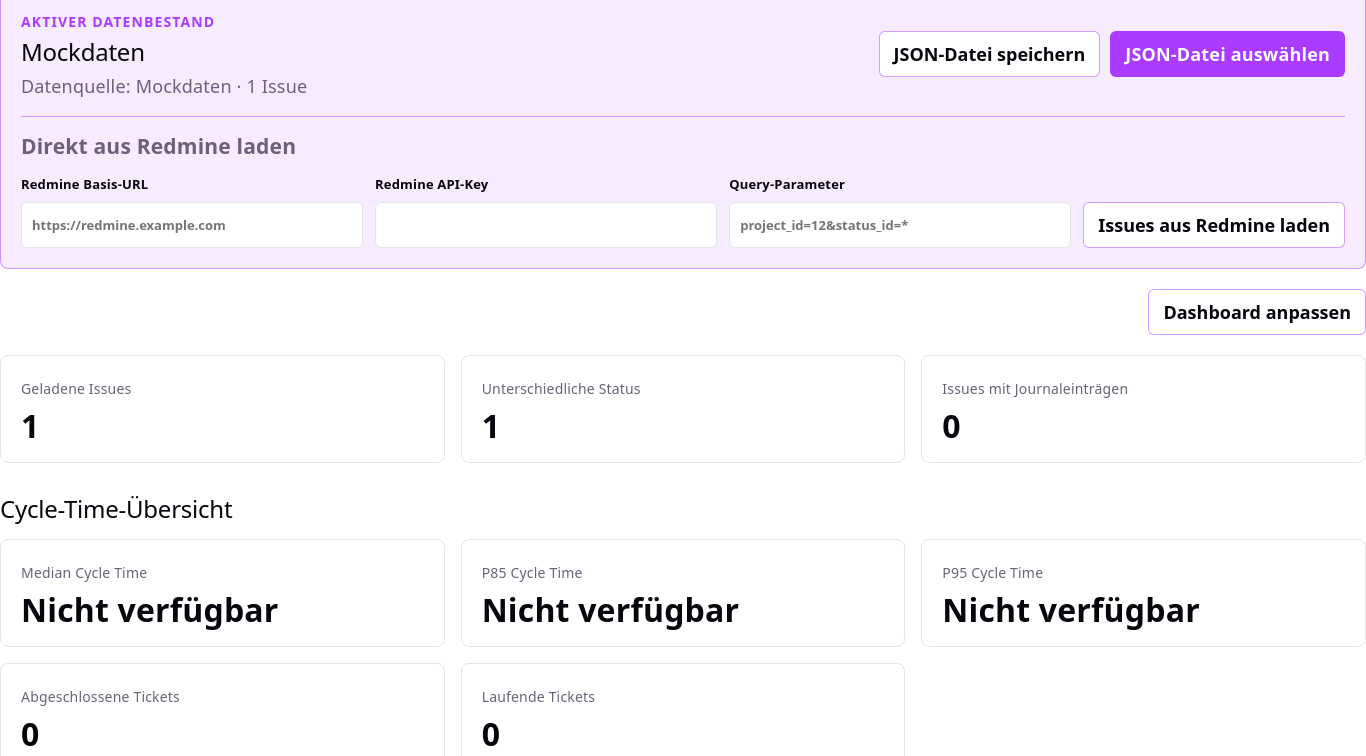
Dashboard visibility settings › restores defaults and updates persisted state
Click the button "Dashboard anpassen".
click(1257, 312)  # box [1148, 289, 1365, 335]
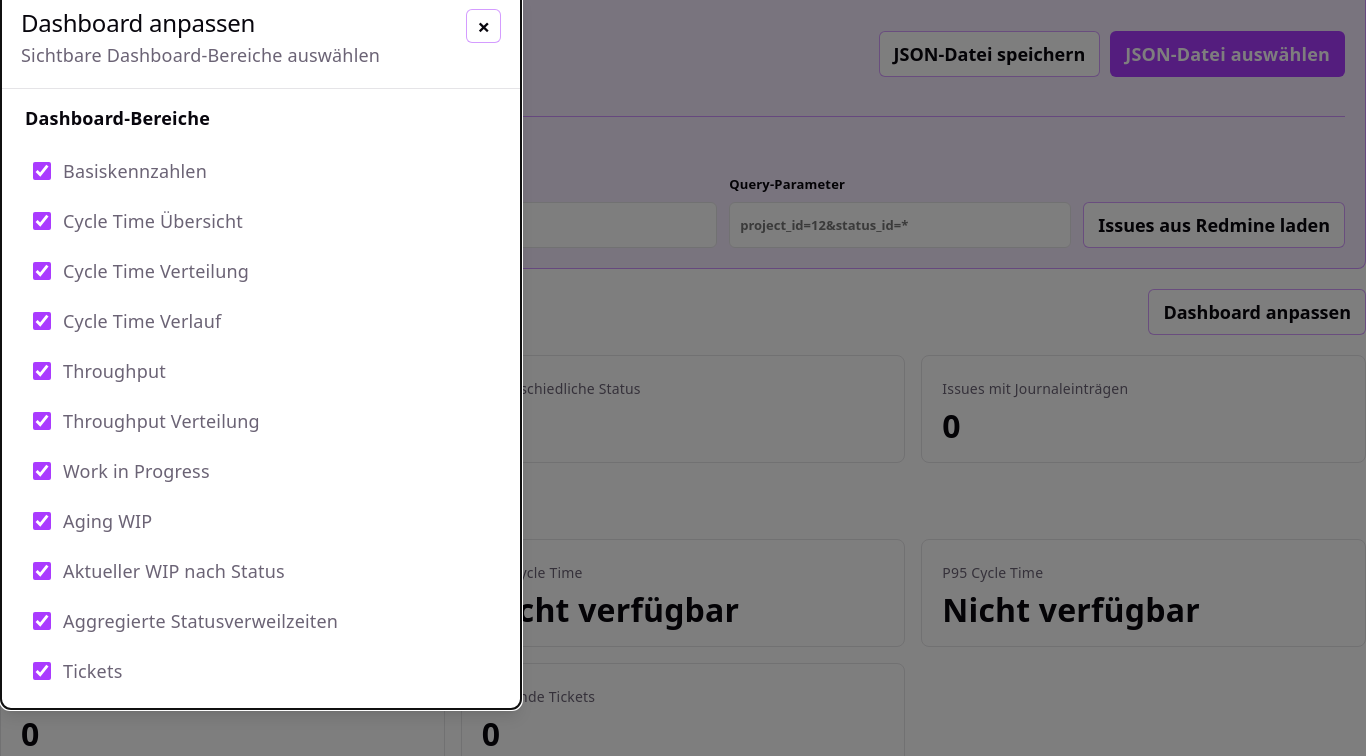
Click the checkbox labelled "Throughput Verteilung".
click(42, 421)  # box [33, 412, 51, 430]
(page scrolled)
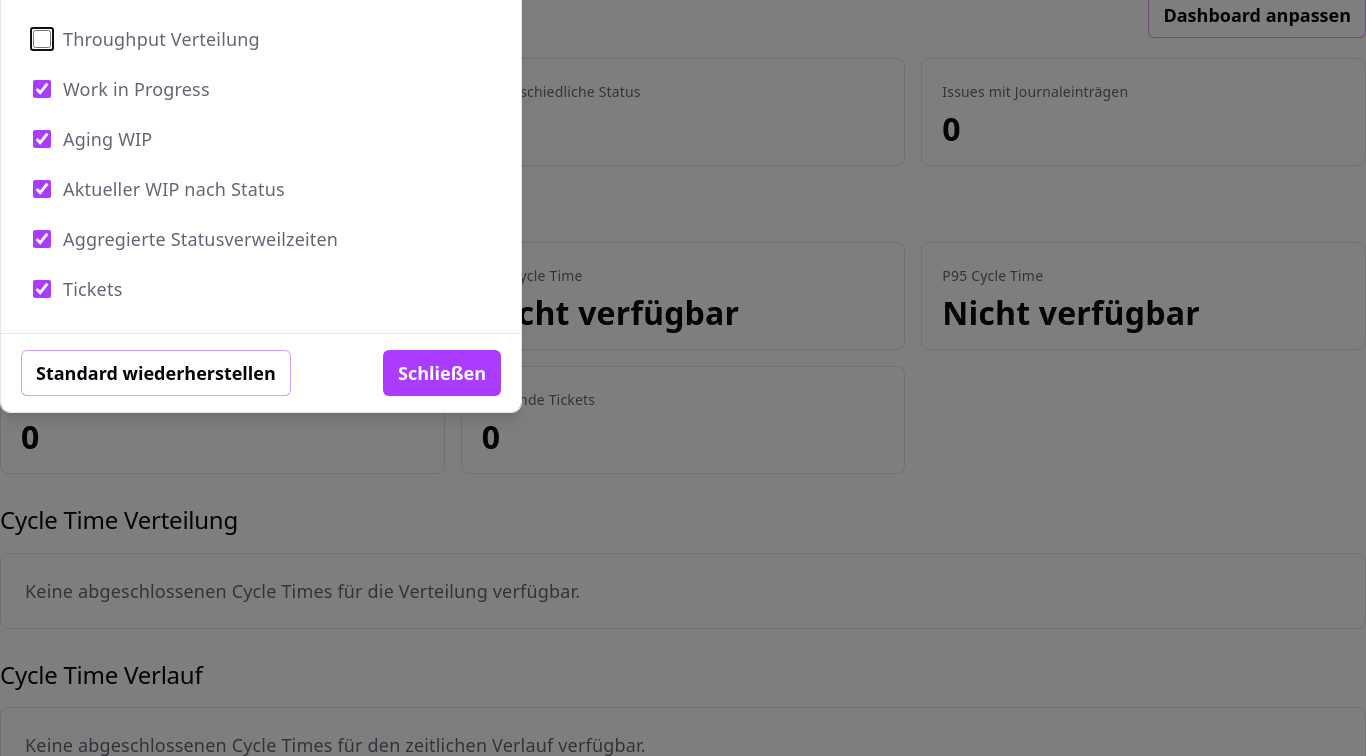
Click the button "Standard wiederherstellen".
click(156, 373)  # box [21, 350, 291, 396]
(page scrolled)
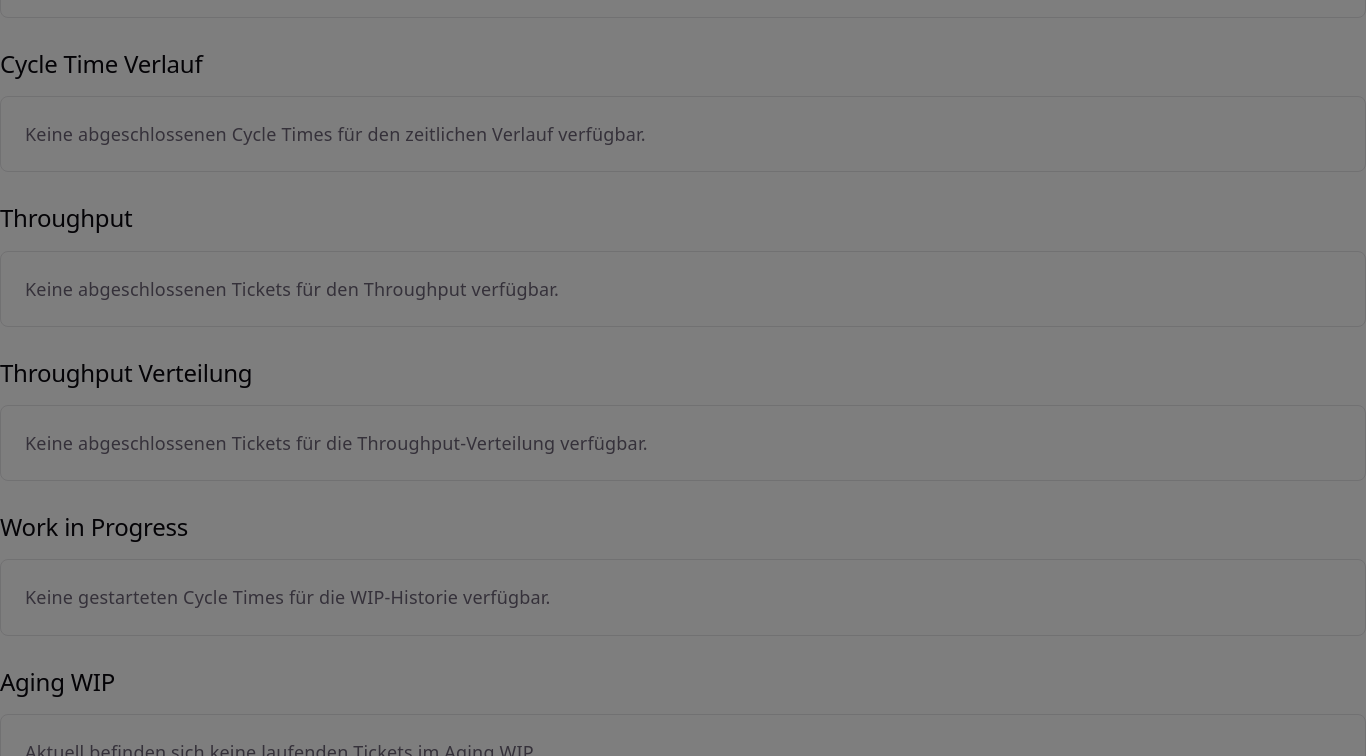
Check: the heading "Throughput Verteilung" is shown, box [0, 356, 252, 389]
